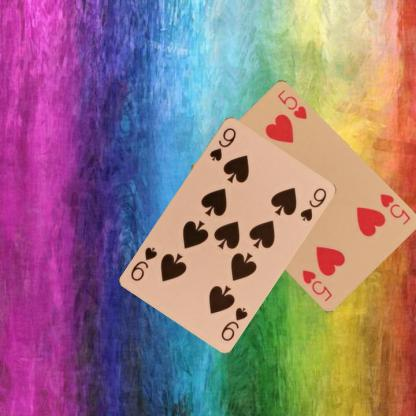5h: (377, 191, 411, 226)
9s: (218, 304, 249, 342), (207, 124, 237, 162)
